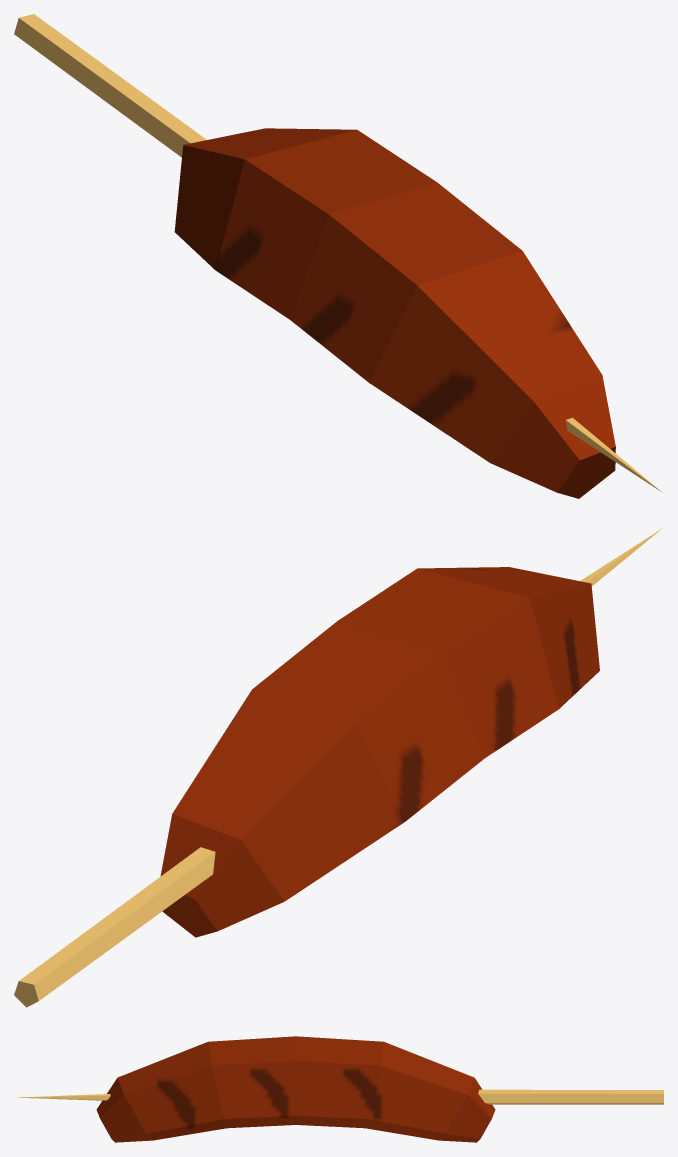
The model's file is SausageWithStick.Ani 1.fbx.
3 renders of one model, top to bottom at view 1: azimuth 30°, elevation 25°; view 2: azimuth 150°, elevation 25°; view 3: azimuth 270°, elevation 25°, orthographic. The views are drawn at different scales.
Parts seen in each view (by area): view 1: SauStick; view 2: SauStick; view 3: SauStick.
Part boxes in pixels (x1,y1,x2,y2): SauStick: (14, 14, 662, 498); SauStick: (14, 528, 662, 1007); SauStick: (17, 1036, 663, 1142).
Bounding box in the file's own units: 47.89 × 45.93 × 297.
Materials: 2 (1 with a texture image).
